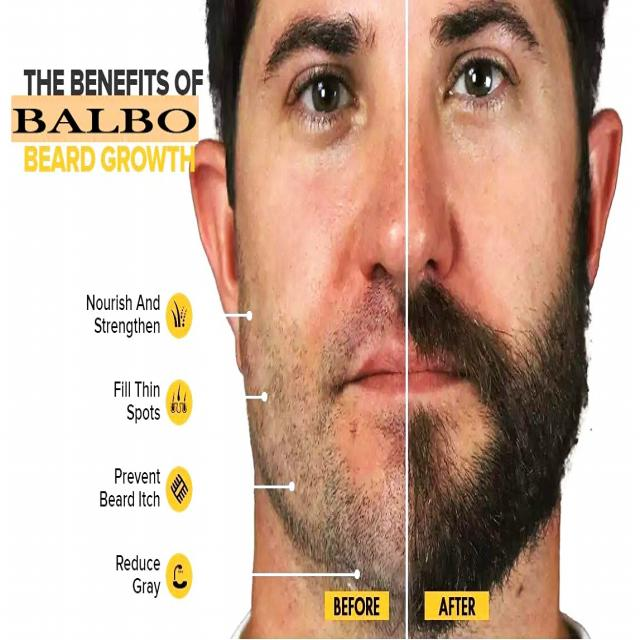beard: (410, 239, 590, 628)
hair: (206, 0, 258, 145), (557, 0, 609, 129)
